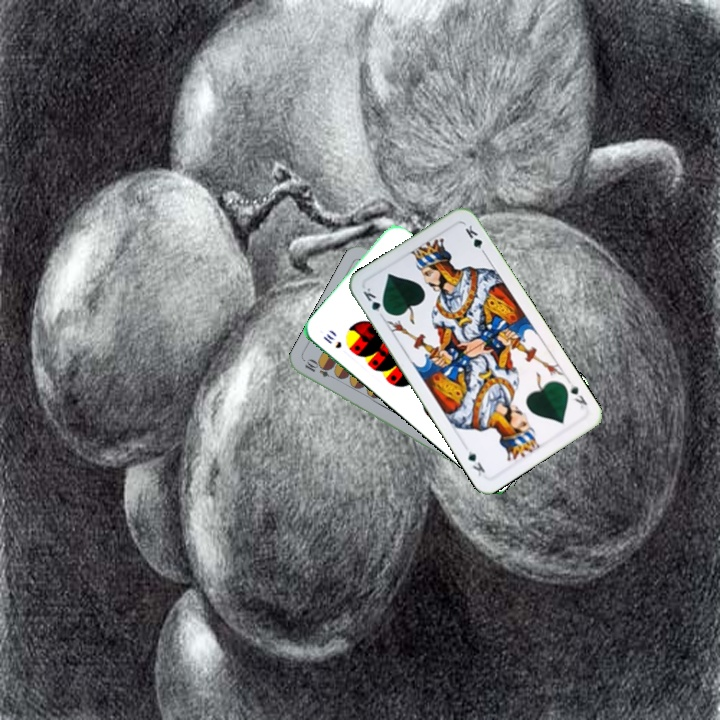E10: (301, 356, 340, 382)
GK: (359, 284, 390, 317), (566, 380, 590, 413)
S10: (319, 329, 344, 351)
